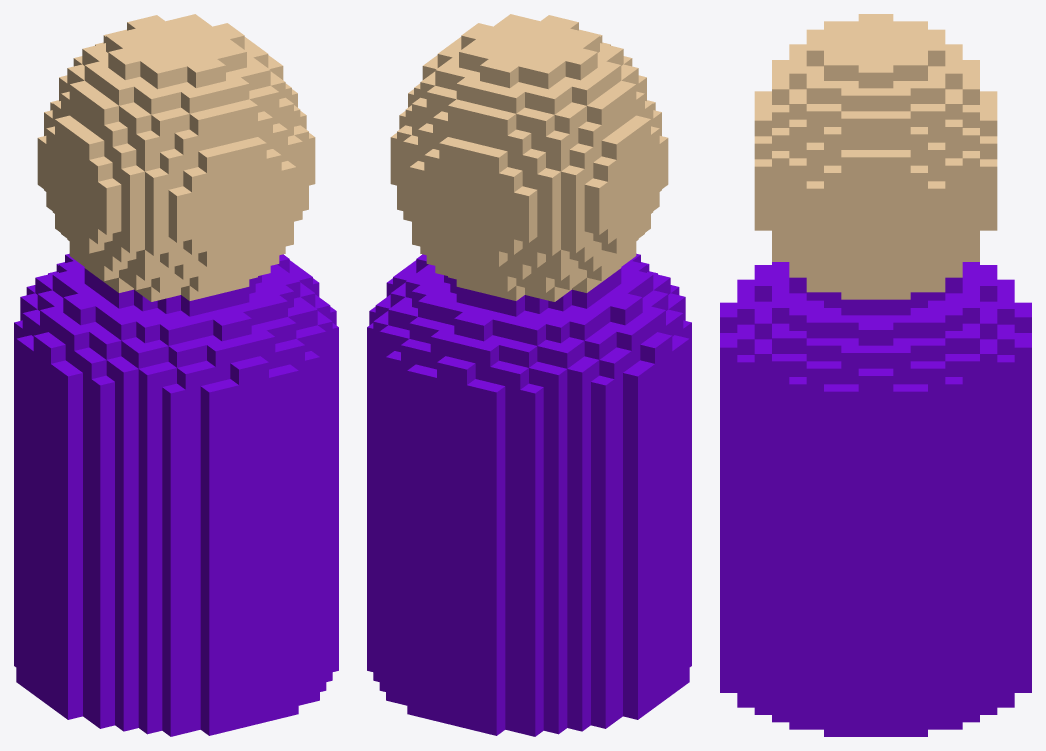
The model's file is Person_6.fbx.
3 renders of one model, left to right at view 1: azimuth 30°, elevation 25°; view 2: azimuth 150°, elevation 25°; view 3: azimuth 270°, elevation 25°, orthographic.
Visible parts, largest first — view 1: Person_6; view 2: Person_6; view 3: Person_6.
Part boxes in pixels (x1,y1,x2,y2): Person_6: [14, 14, 338, 736]; Person_6: [367, 14, 691, 736]; Person_6: [720, 14, 1031, 736].
Bounding box in the file's own units: 18 × 40 × 18.
1 material, 1 textured.
